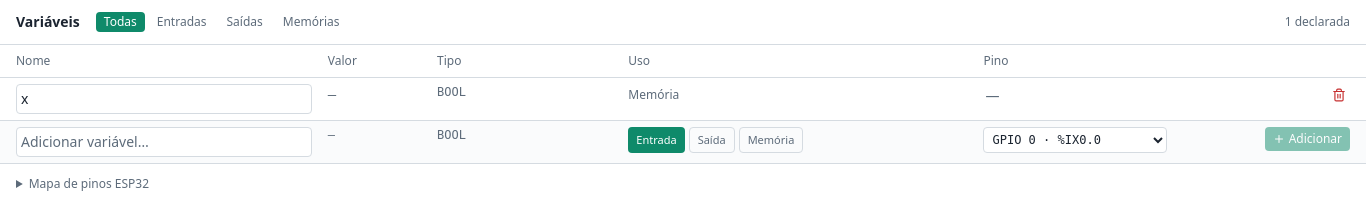
Test: PainelVariaveis — editar e remover via núcleo › remove uma variável não vinculada
The image size is (1366, 208).
Click the button named "Remover variável x". click: (1339, 95)
box: [1328,84,1350,106]
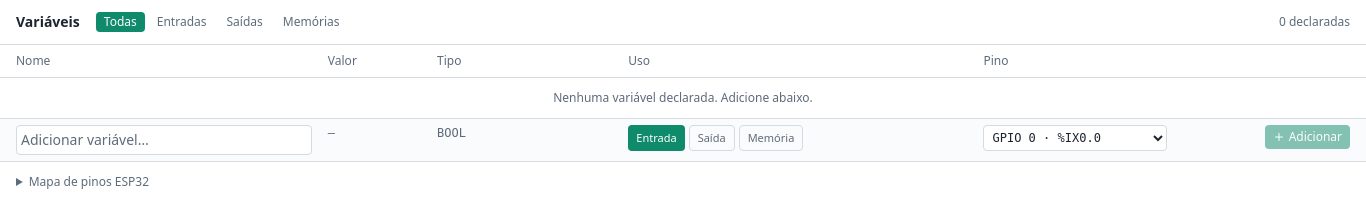
Expected: the text "0 declaradas" is shown, [1279,14,1350,30]
